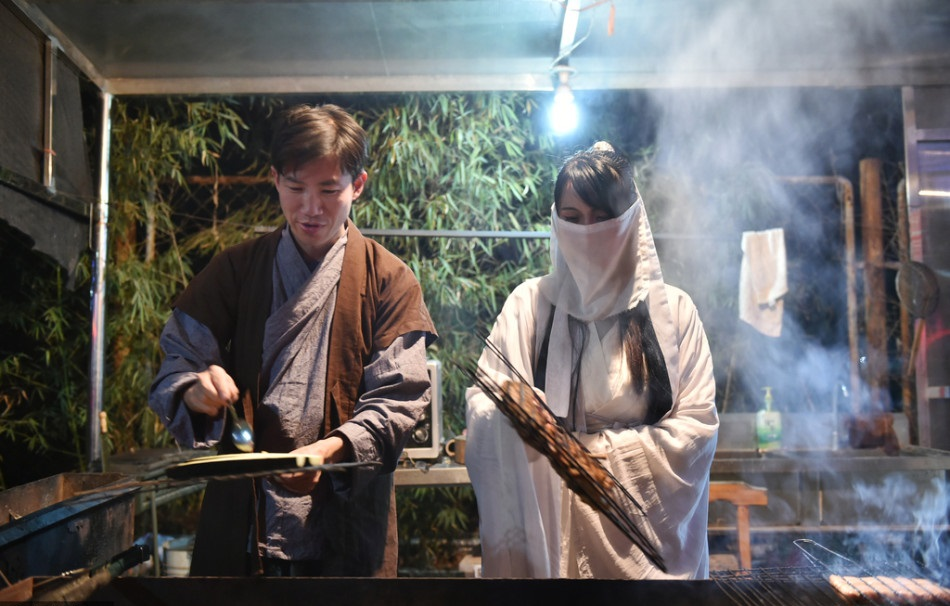face: (279, 156, 352, 241)
face_mask: (558, 182, 628, 270)
